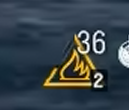2fire: (42, 57, 108, 91)
